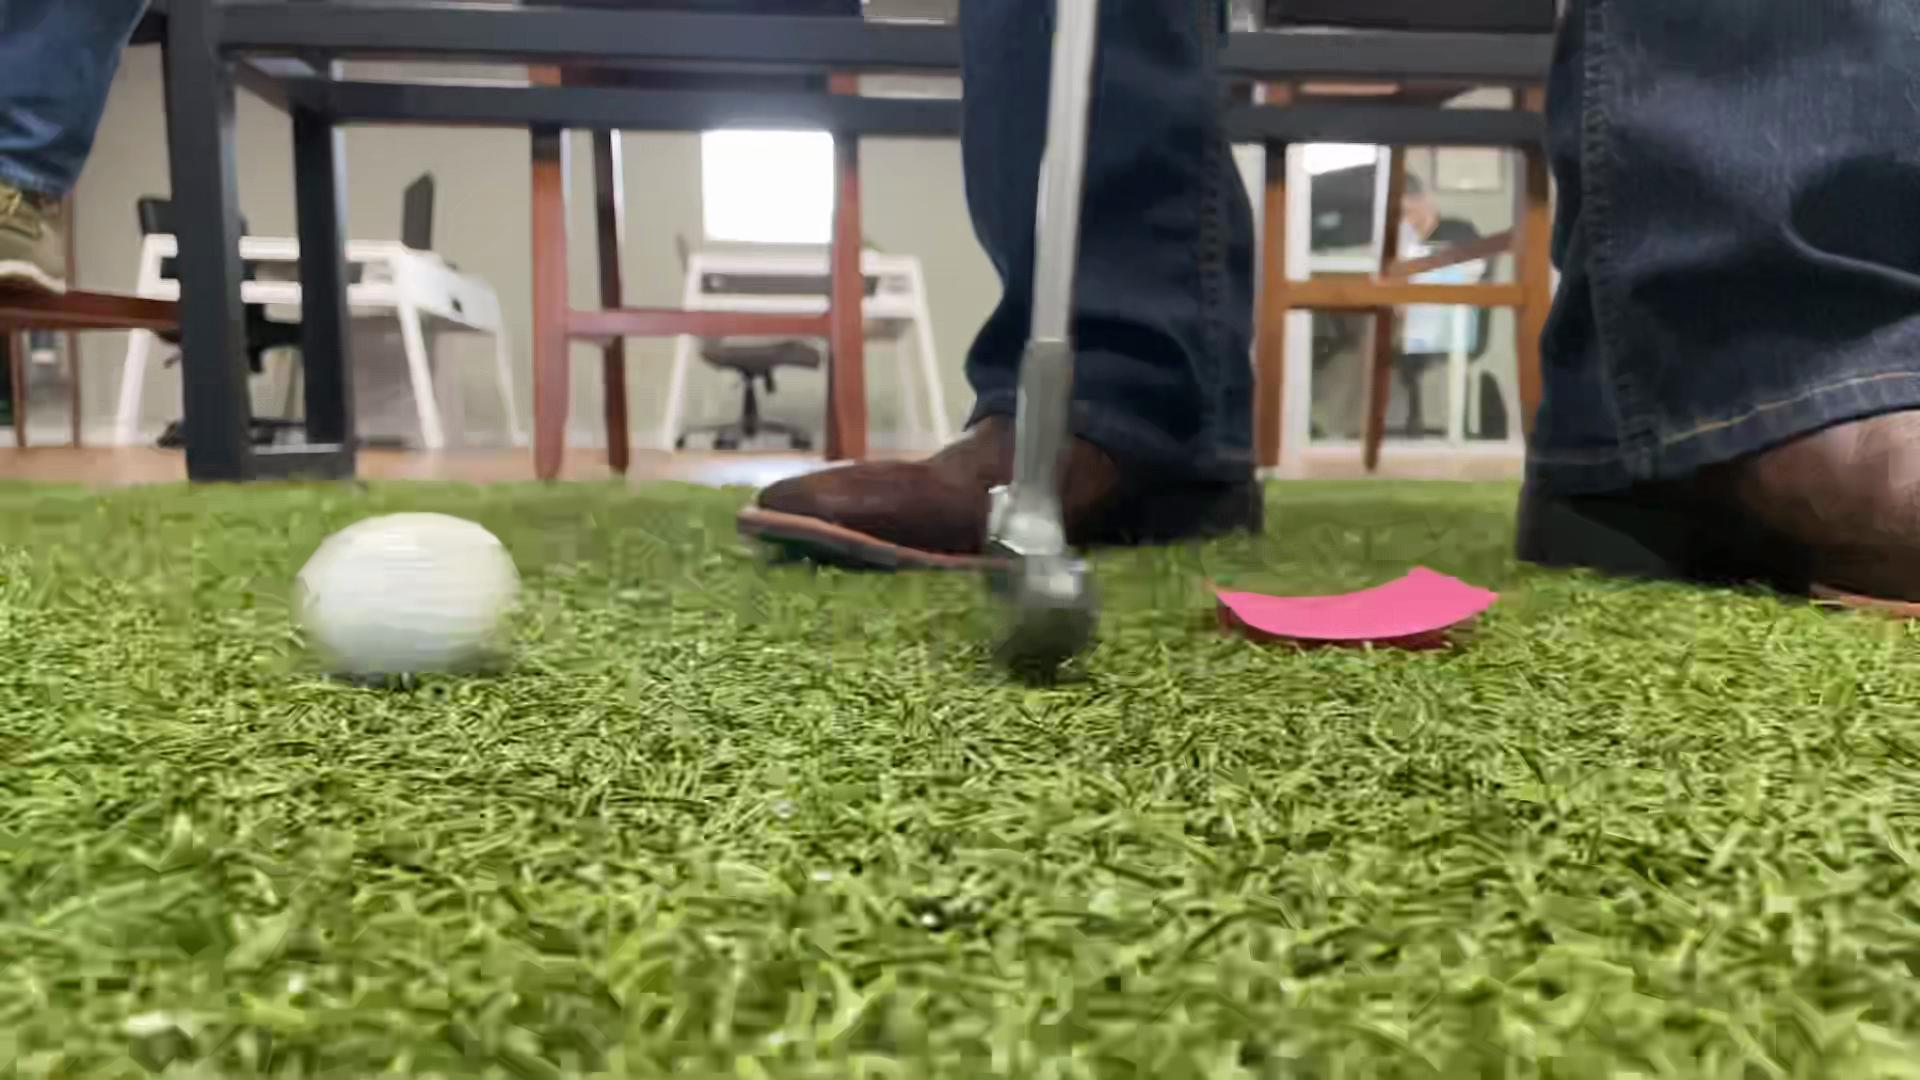golfball: (291, 513, 520, 675)
